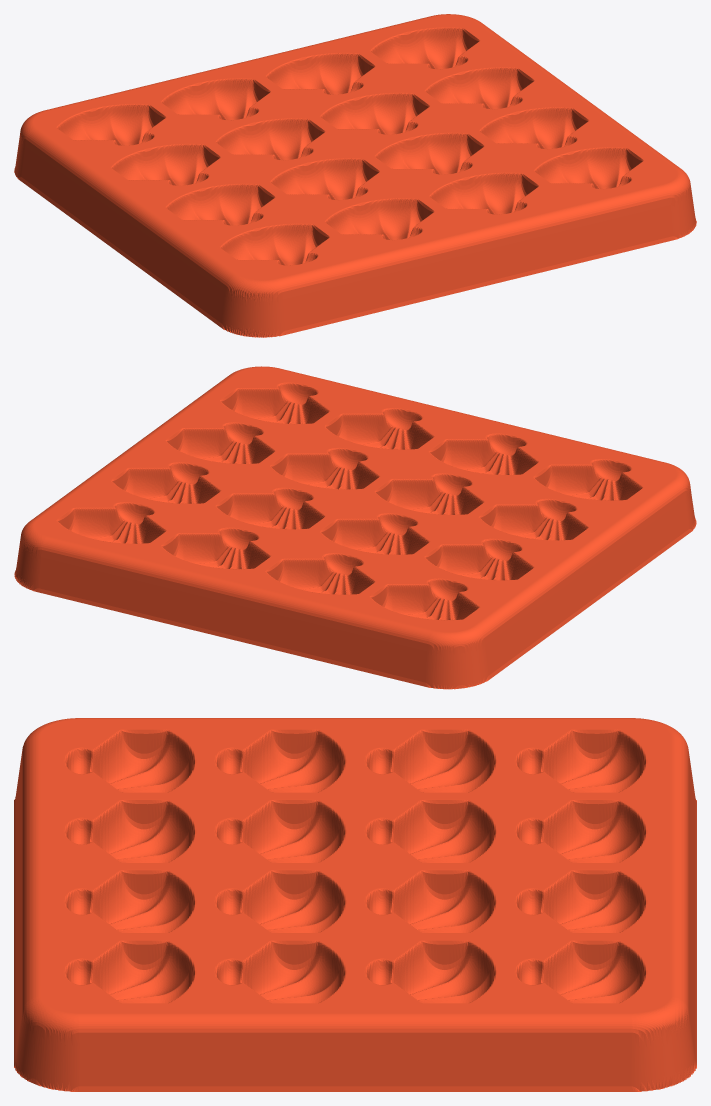
Rendered from mold.glb.
The picture shows the model from 3 angles, top to bottom: view 1: azimuth 30°, elevation 25°; view 2: azimuth 150°, elevation 25°; view 3: azimuth 270°, elevation 25°; orthographic projection. The views are drawn at different scales.
Visible parts, largest first — view 1: geometry_0; view 2: geometry_0; view 3: geometry_0.
Part boxes in pixels (x1,y1,x2,y2): geometry_0: (14, 14, 696, 337); geometry_0: (14, 366, 696, 689); geometry_0: (14, 718, 696, 1091).
Bounding box in the file's own units: 0.1024 × 0.0102 × 0.0936.
